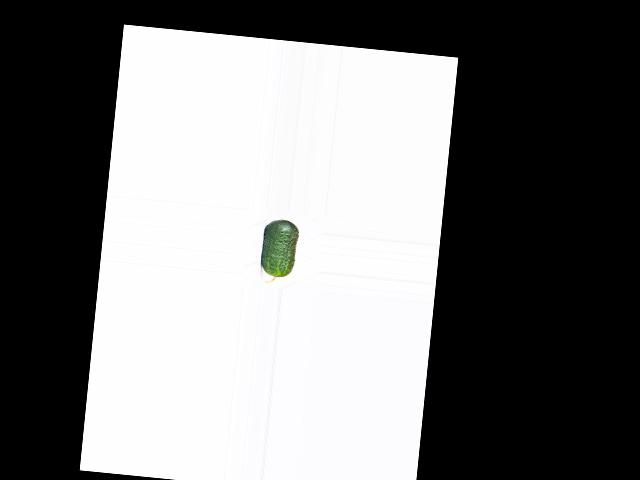cucumber: (259, 218, 299, 285)
